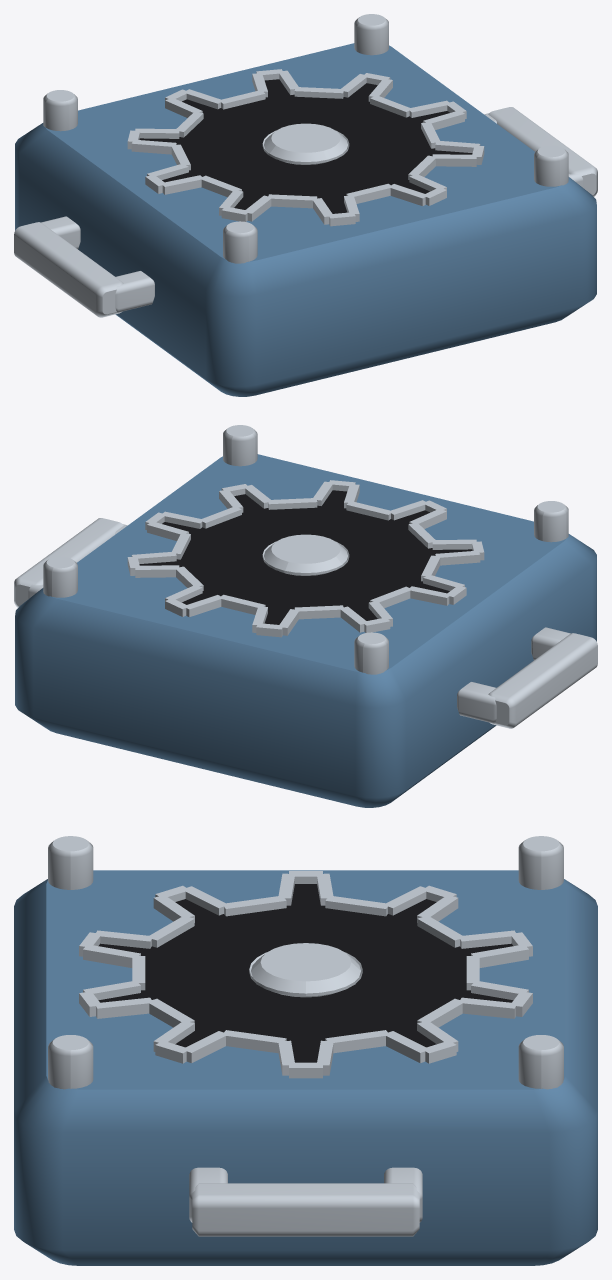
Rendered from objet_moule_engrenage.glb.
The picture shows the model from 3 angles, top to bottom: view 1: azimuth 30°, elevation 25°; view 2: azimuth 150°, elevation 25°; view 3: azimuth 270°, elevation 25°; orthographic projection. The views are drawn at different scales.
Parts seen in each view (by area): view 1: moule_moule_corps.006, moule_moule_acier.006, moule_moule_creux.006; view 2: moule_moule_corps.006, moule_moule_acier.006, moule_moule_creux.006; view 3: moule_moule_corps.006, moule_moule_acier.006, moule_moule_creux.006.
Boxes of the visible parts, <box> form: moule_moule_corps.006: <box>15,43,596,396</box>; moule_moule_acier.006: <box>14,14,597,317</box>; moule_moule_creux.006: <box>139,79,472,213</box>; moule_moule_corps.006: <box>15,454,596,807</box>; moule_moule_acier.006: <box>14,425,597,728</box>; moule_moule_creux.006: <box>139,490,472,624</box>; moule_moule_corps.006: <box>14,870,597,1265</box>; moule_moule_acier.006: <box>48,836,563,1236</box>; moule_moule_creux.006: <box>98,884,513,1062</box>.
Bounding box in the file's own units: 0.234 × 0.0725 × 0.18.
